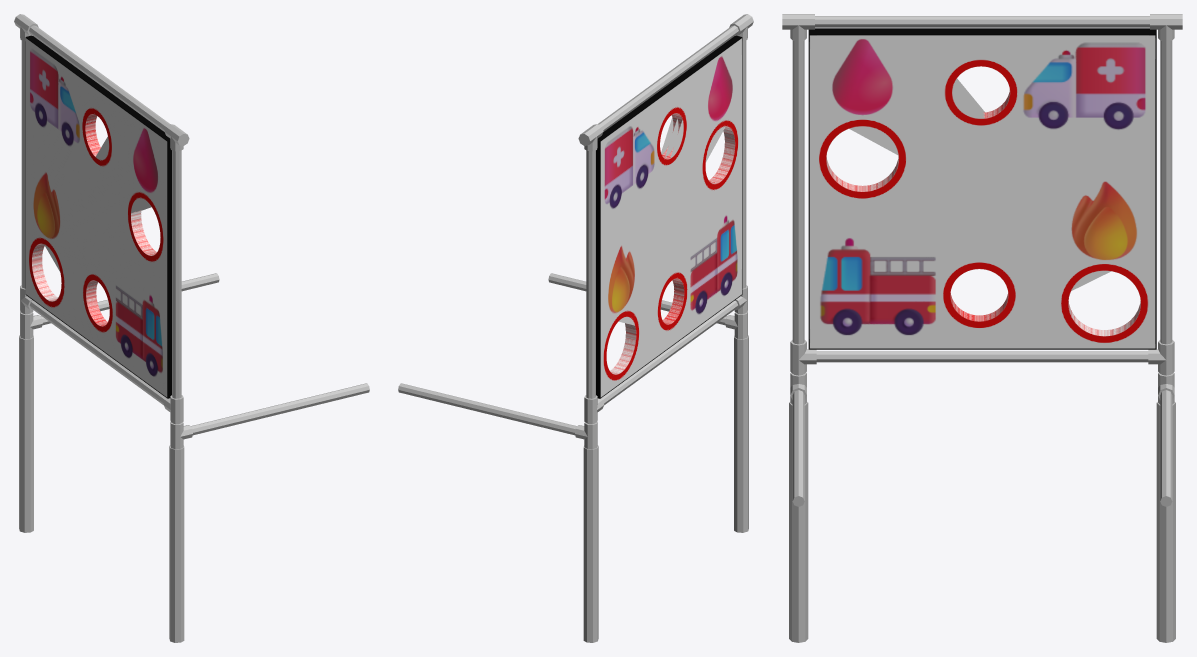
The model's file is torpedoMapping_2026_v2.obj.
The picture shows the model from 3 angles, left to right: view 1: azimuth 30°, elevation 25°; view 2: azimuth 150°, elevation 25°; view 3: azimuth 270°, elevation 25°; orthographic projection. The views are drawn at different scales.
Parts seen in each view (by area): view 1: Board_V2, Cylinder.006, Cylinder.005, Cylinder.003, Cylinder.015, Cylinder.001; view 2: Board_V2, Cylinder.006, Cylinder.003, Cylinder.005, Cylinder.001, Cylinder.015; view 3: Board_V2, Cylinder.006, Cylinder.005, Cylinder.003, Cylinder.015, Cylinder.001.
Boxes of the visible parts, x1,y1,x2,y2 form: Board_V2: [25, 35, 171, 398]; Cylinder.006: [14, 14, 189, 423]; Cylinder.005: [169, 445, 184, 642]; Cylinder.003: [19, 335, 33, 532]; Cylinder.015: [170, 383, 369, 449]; Cylinder.001: [20, 273, 219, 339]; Board_V2: [596, 35, 742, 398]; Cylinder.006: [578, 14, 753, 423]; Cylinder.003: [583, 445, 598, 642]; Cylinder.005: [734, 335, 748, 532]; Cylinder.001: [398, 383, 597, 449]; Cylinder.015: [548, 273, 747, 339]; Board_V2: [808, 28, 1156, 349]; Cylinder.006: [782, 14, 1182, 374]; Cylinder.005: [789, 402, 808, 642]; Cylinder.003: [1156, 402, 1175, 642]; Cylinder.015: [790, 372, 806, 506]; Cylinder.001: [1158, 372, 1174, 506].
Bounding box in the file's own units: 0.4882 × 1.21 × 0.7017.
2 materials, 1 textured.
